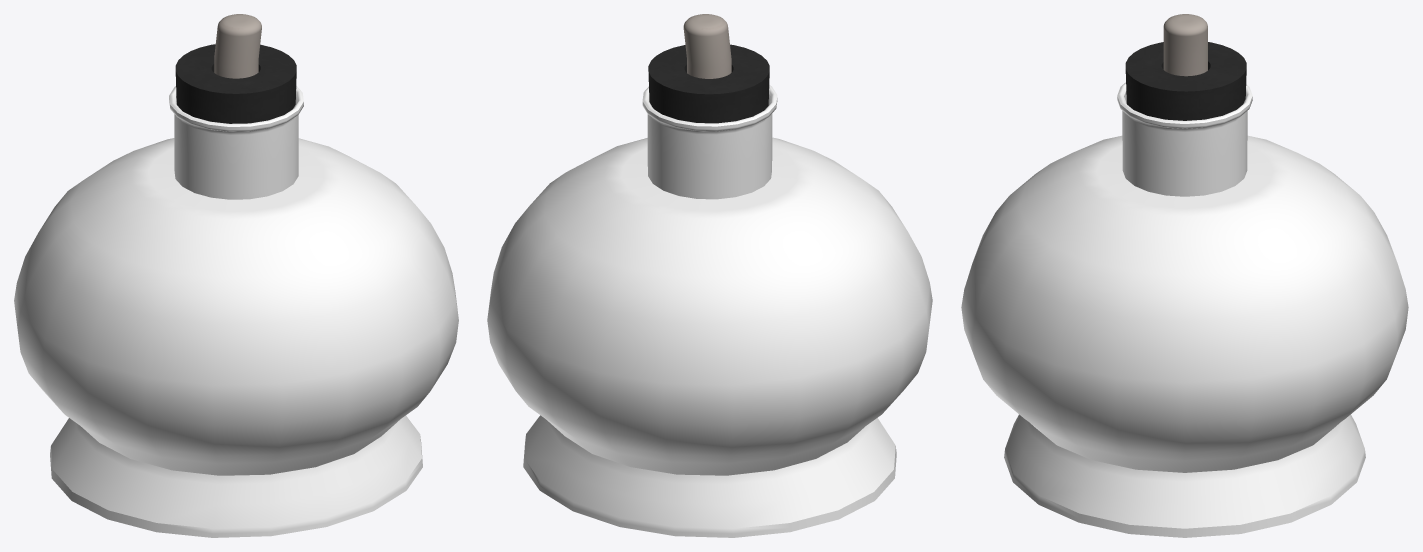
File: Spirit_Lamp.fbx
The picture shows the model from 3 angles, left to right: view 1: azimuth 30°, elevation 25°; view 2: azimuth 150°, elevation 25°; view 3: azimuth 270°, elevation 25°; orthographic projection.
Visible parts, largest first — view 1: pSphere8, pCylinder15, pCylinder14; view 2: pSphere8, pCylinder15, pCylinder14; view 3: pSphere8, pCylinder15, pCylinder14.
Part boxes in pixels (x1=…): pSphere8: x1=14, y1=86, x2=458, y2=537; pCylinder15: x1=175, y1=44, x2=296, y2=123; pCylinder14: x1=214, y1=14, x2=261, y2=78; pSphere8: x1=487, y1=85, x2=932, y2=537; pCylinder15: x1=648, y1=44, x2=769, y2=123; pCylinder14: x1=683, y1=14, x2=731, y2=78; pSphere8: x1=961, y1=82, x2=1408, y2=537; pCylinder15: x1=1125, y1=42, x2=1246, y2=120; pCylinder14: x1=1163, y1=14, x2=1207, y2=76.
Bounding box in the file's own units: 9.89 × 10.73 × 9.89.
